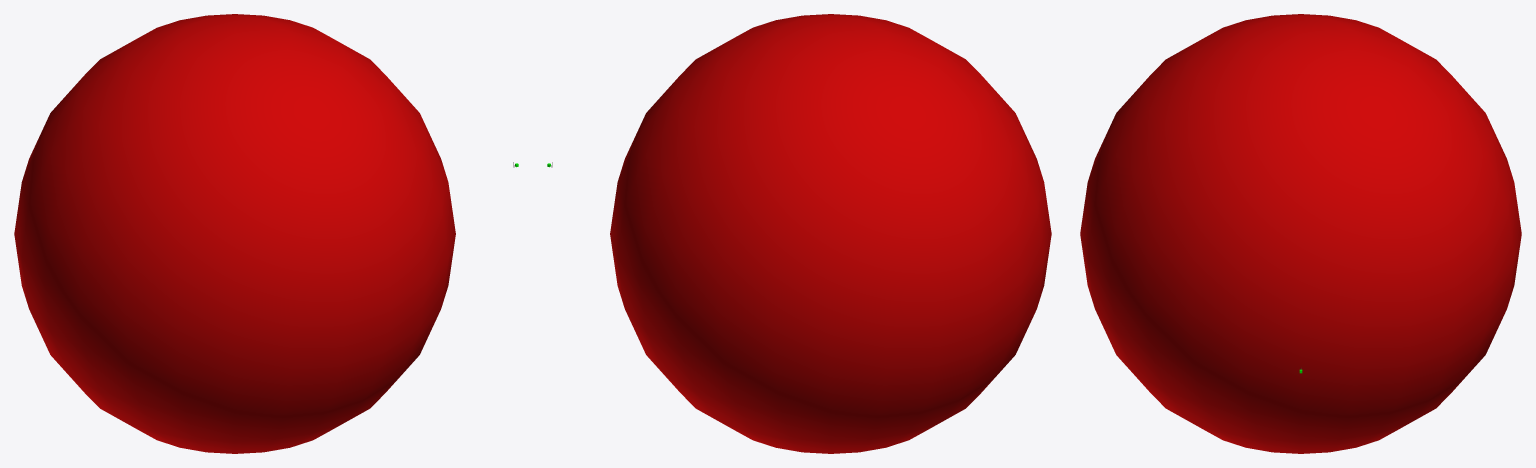
File: ball.dae
3 views of the same model, side by side, from view 1: azimuth 30°, elevation 25°; view 2: azimuth 150°, elevation 25°; view 3: azimuth 270°, elevation 25° (orthographic).
Parts seen in each view (by area): view 1: Sphere; view 2: Sphere; view 3: Sphere.
Part boxes in pixels (x1,y1,x2,y2): Sphere: [14, 14, 455, 453]; Sphere: [610, 14, 1051, 453]; Sphere: [1080, 14, 1521, 453].
Size of the model in its own units: 39917 by 32200 by 32200.
